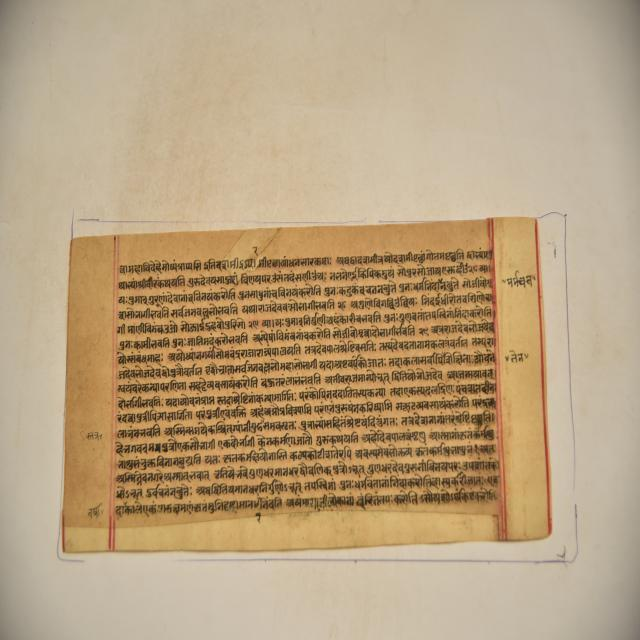text_paragraph: (58, 215, 550, 549)
